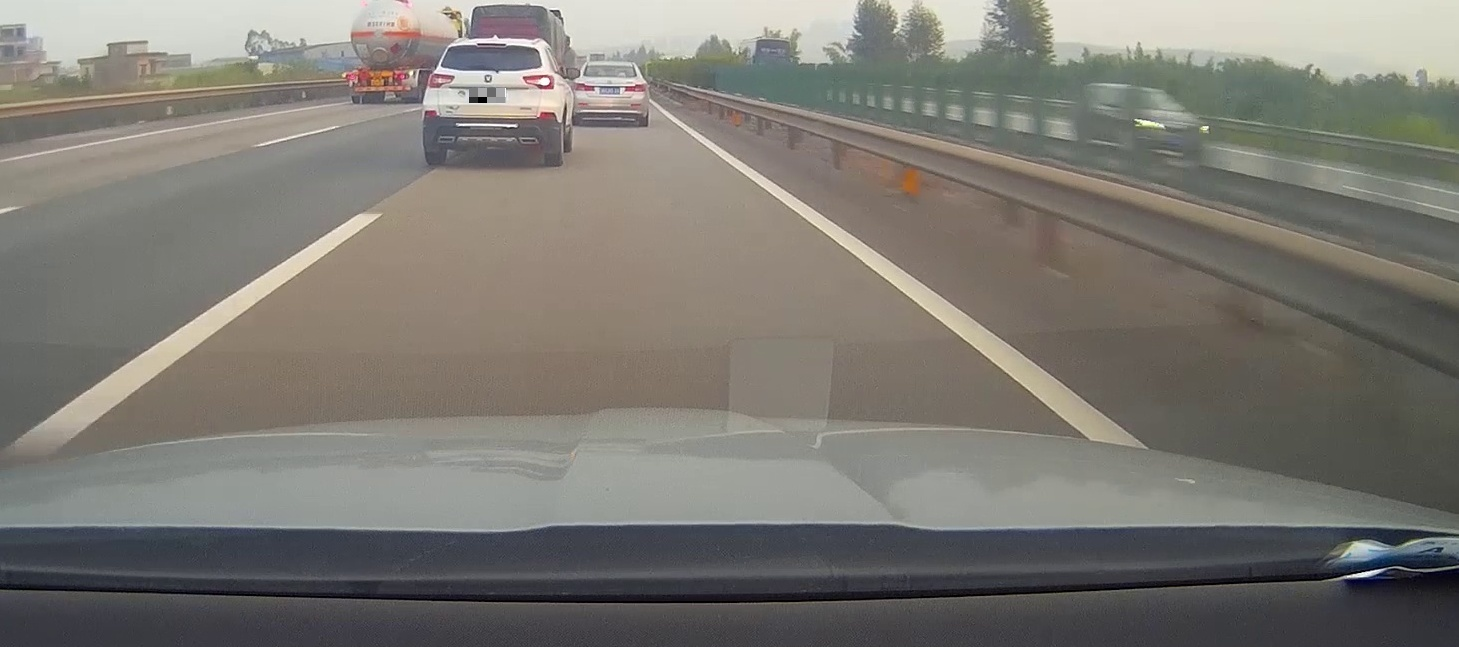L_light: (427, 73, 455, 89), (574, 82, 594, 91), (347, 73, 358, 79)
R_light: (522, 74, 555, 91), (624, 83, 647, 92), (395, 73, 409, 80)
T_light: (476, 42, 507, 48), (605, 65, 616, 68), (373, 71, 382, 74)
day-no: (572, 61, 648, 126), (346, 68, 420, 104)
day-right: (422, 38, 558, 166)
plate_1: (469, 88, 506, 103)
